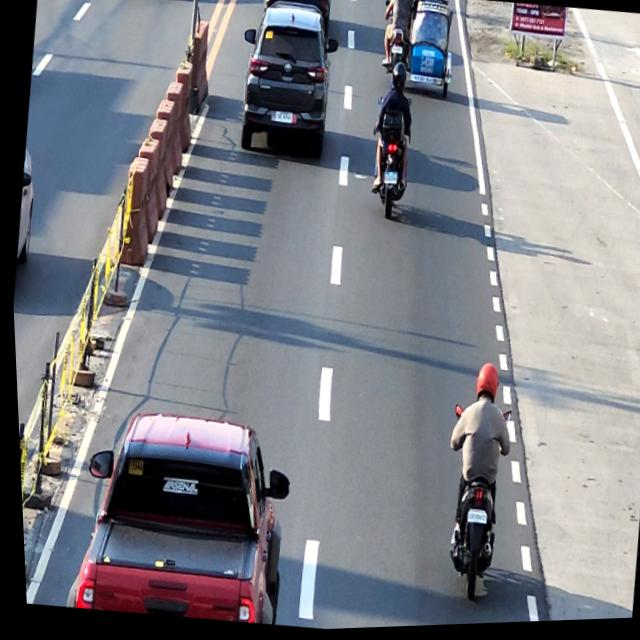Car: (53, 404, 295, 632), (228, 0, 346, 167), (263, 0, 333, 17)
License-Plate: (461, 512, 482, 528), (274, 112, 291, 125), (381, 174, 395, 187), (390, 47, 402, 57)
Motorcycle: (428, 403, 516, 606), (362, 96, 416, 225)
Tricycle: (374, 0, 459, 98)
